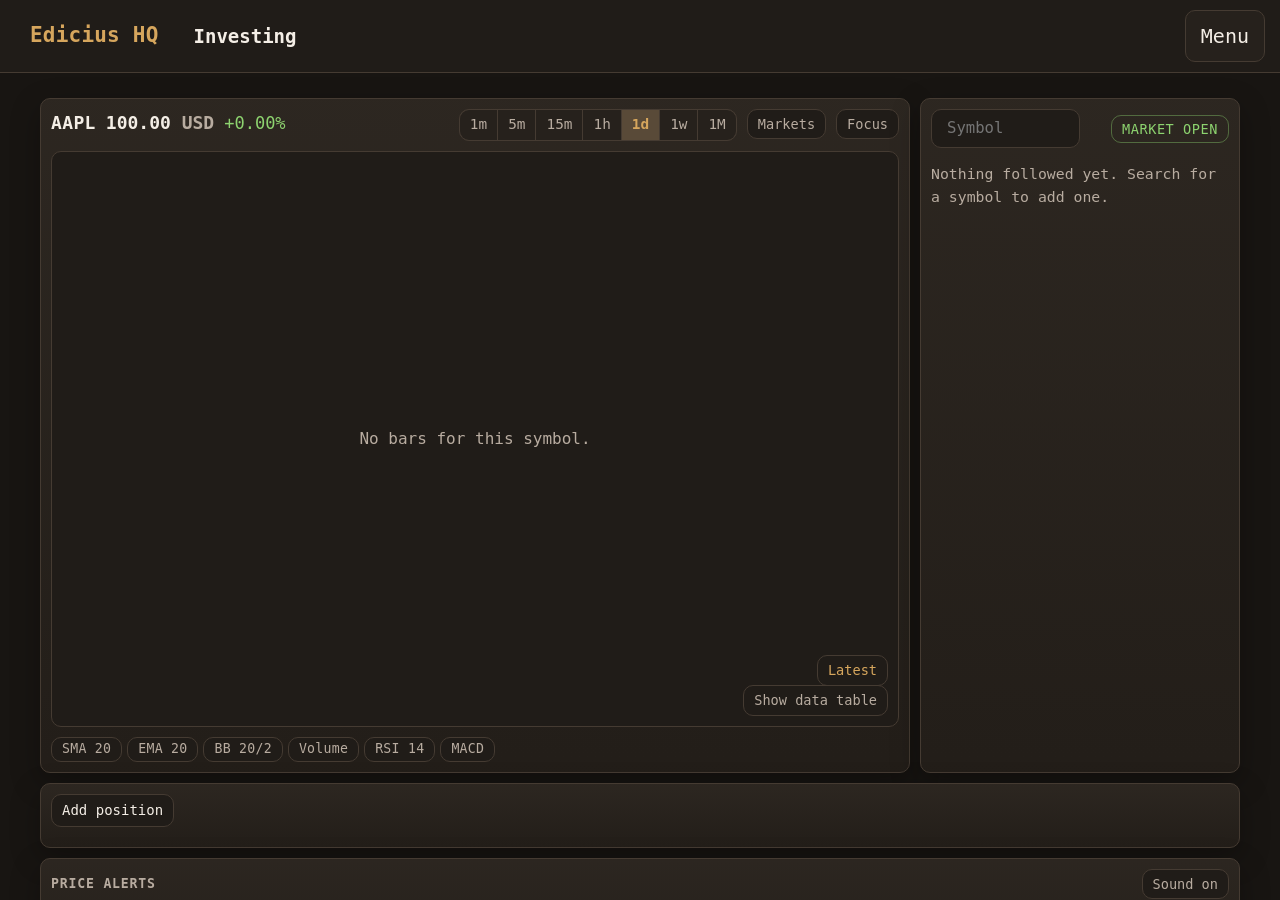
Test case: Investing chart-first workspace › collapses and restores both market lists without entering focus mode
Click the button with aria-label "Hide markets" at (786, 124), box [747,109,826,139]
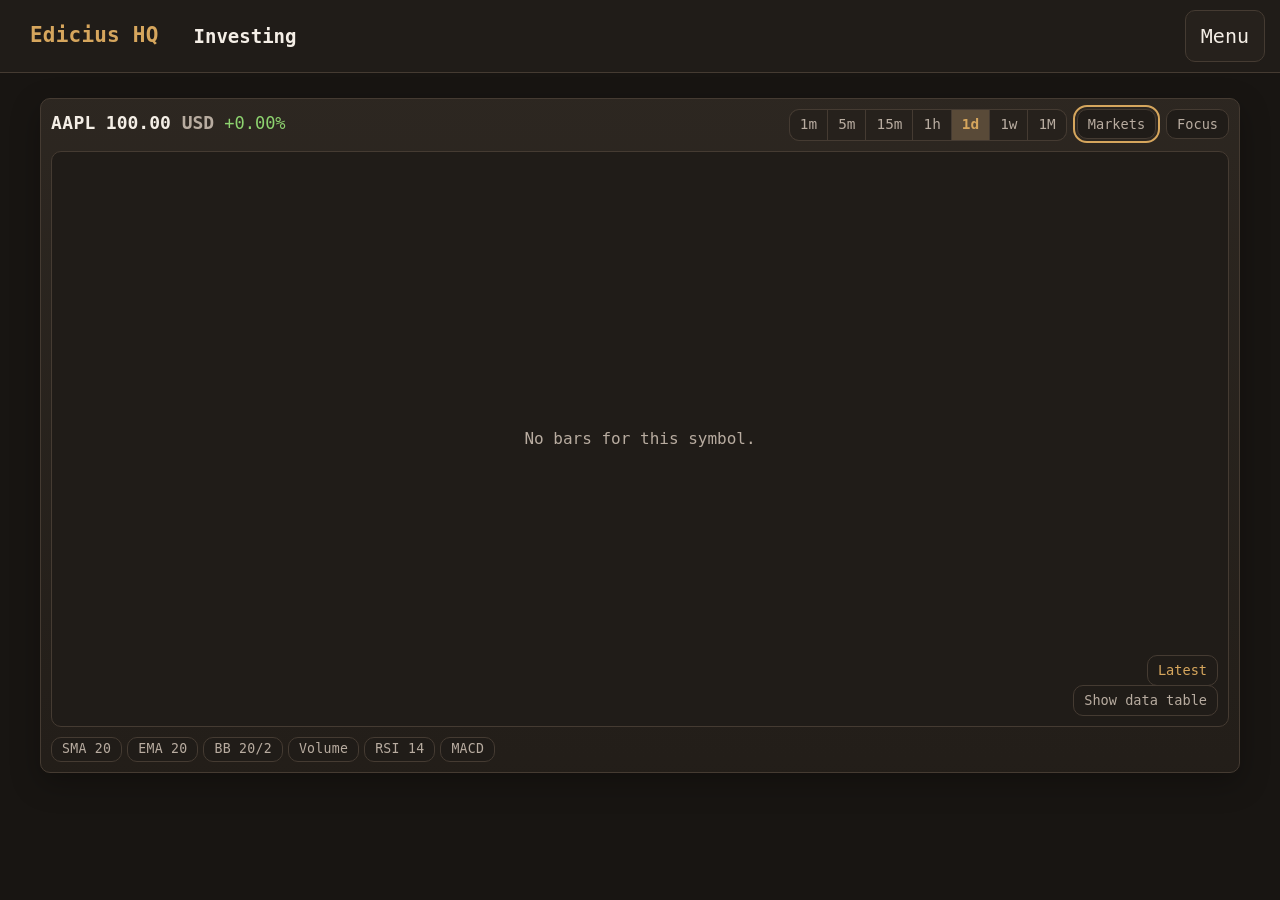
Expected: the element "Watchlist" is not shown
Expected: the element "Positions" is not shown
Click the button with aria-label "Show markets" at (1116, 124), box [1077,109,1156,139]
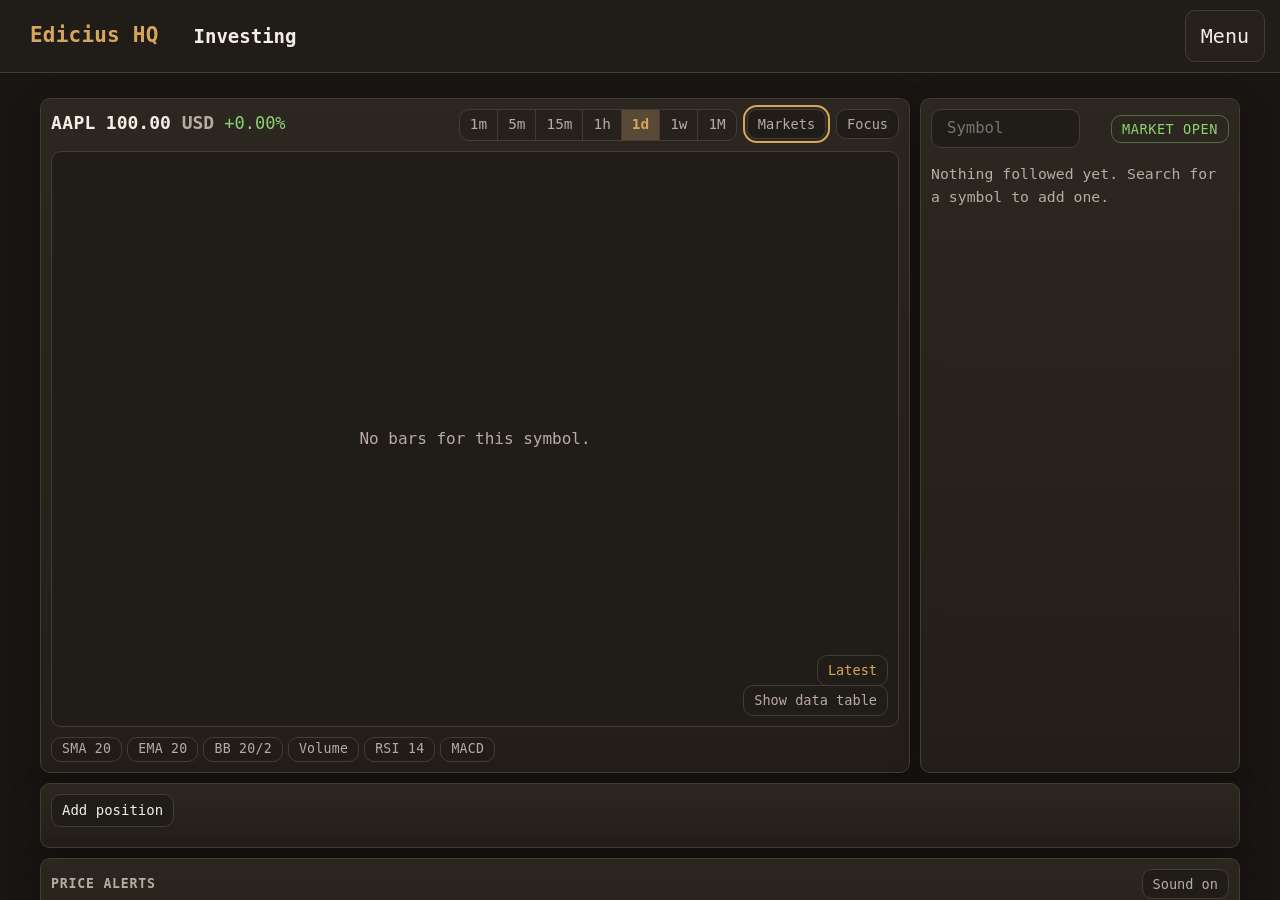
Expected: the element named "Watchlist" is shown, [920,98,1240,773]
Expected: the element named "Positions" is shown, [40,783,1240,848]
